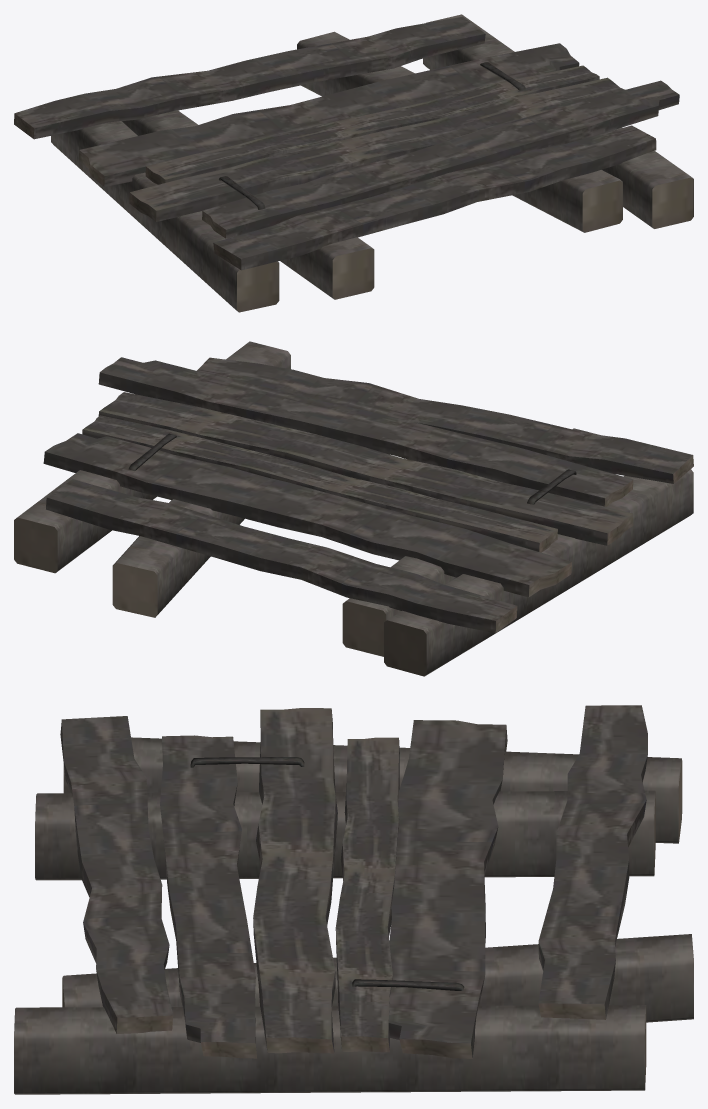
Rendered from AEG023_327out-transformed.glb.
The picture shows the model from 3 angles, top to bottom: view 1: azimuth 30°, elevation 25°; view 2: azimuth 150°, elevation 25°; view 3: azimuth 270°, elevation 25°; orthographic projection. The views are drawn at different scales.
Visible parts, largest first — view 1: default; view 2: default; view 3: default.
Boxes of the visible parts, bbox=[...] form: default: bbox=[14, 14, 693, 312]; default: bbox=[14, 341, 693, 676]; default: bbox=[14, 705, 693, 1094].
Size of the model in its own units: 2.95 by 0.3729 by 2.42.
1 material, 1 textured.
